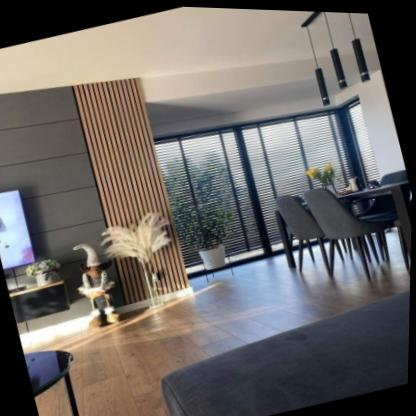Wall Panel: (0, 47, 204, 340)
Wooden floor: (21, 233, 411, 416)
